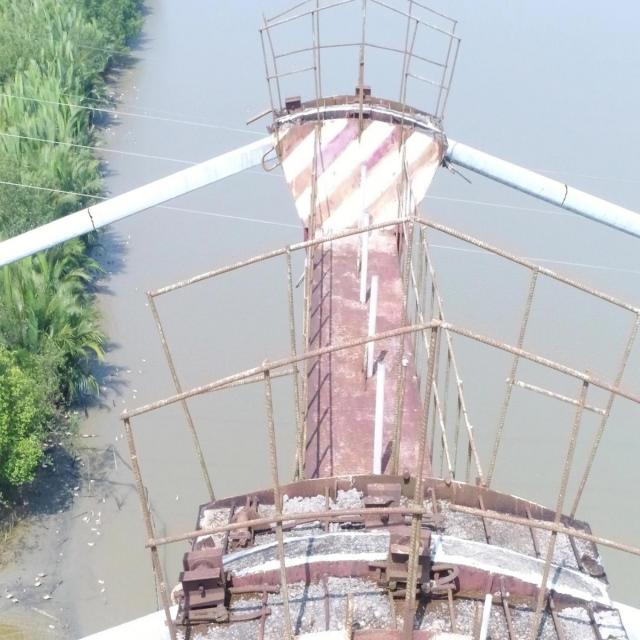crack: (87, 208, 96, 230), (560, 184, 568, 208)
